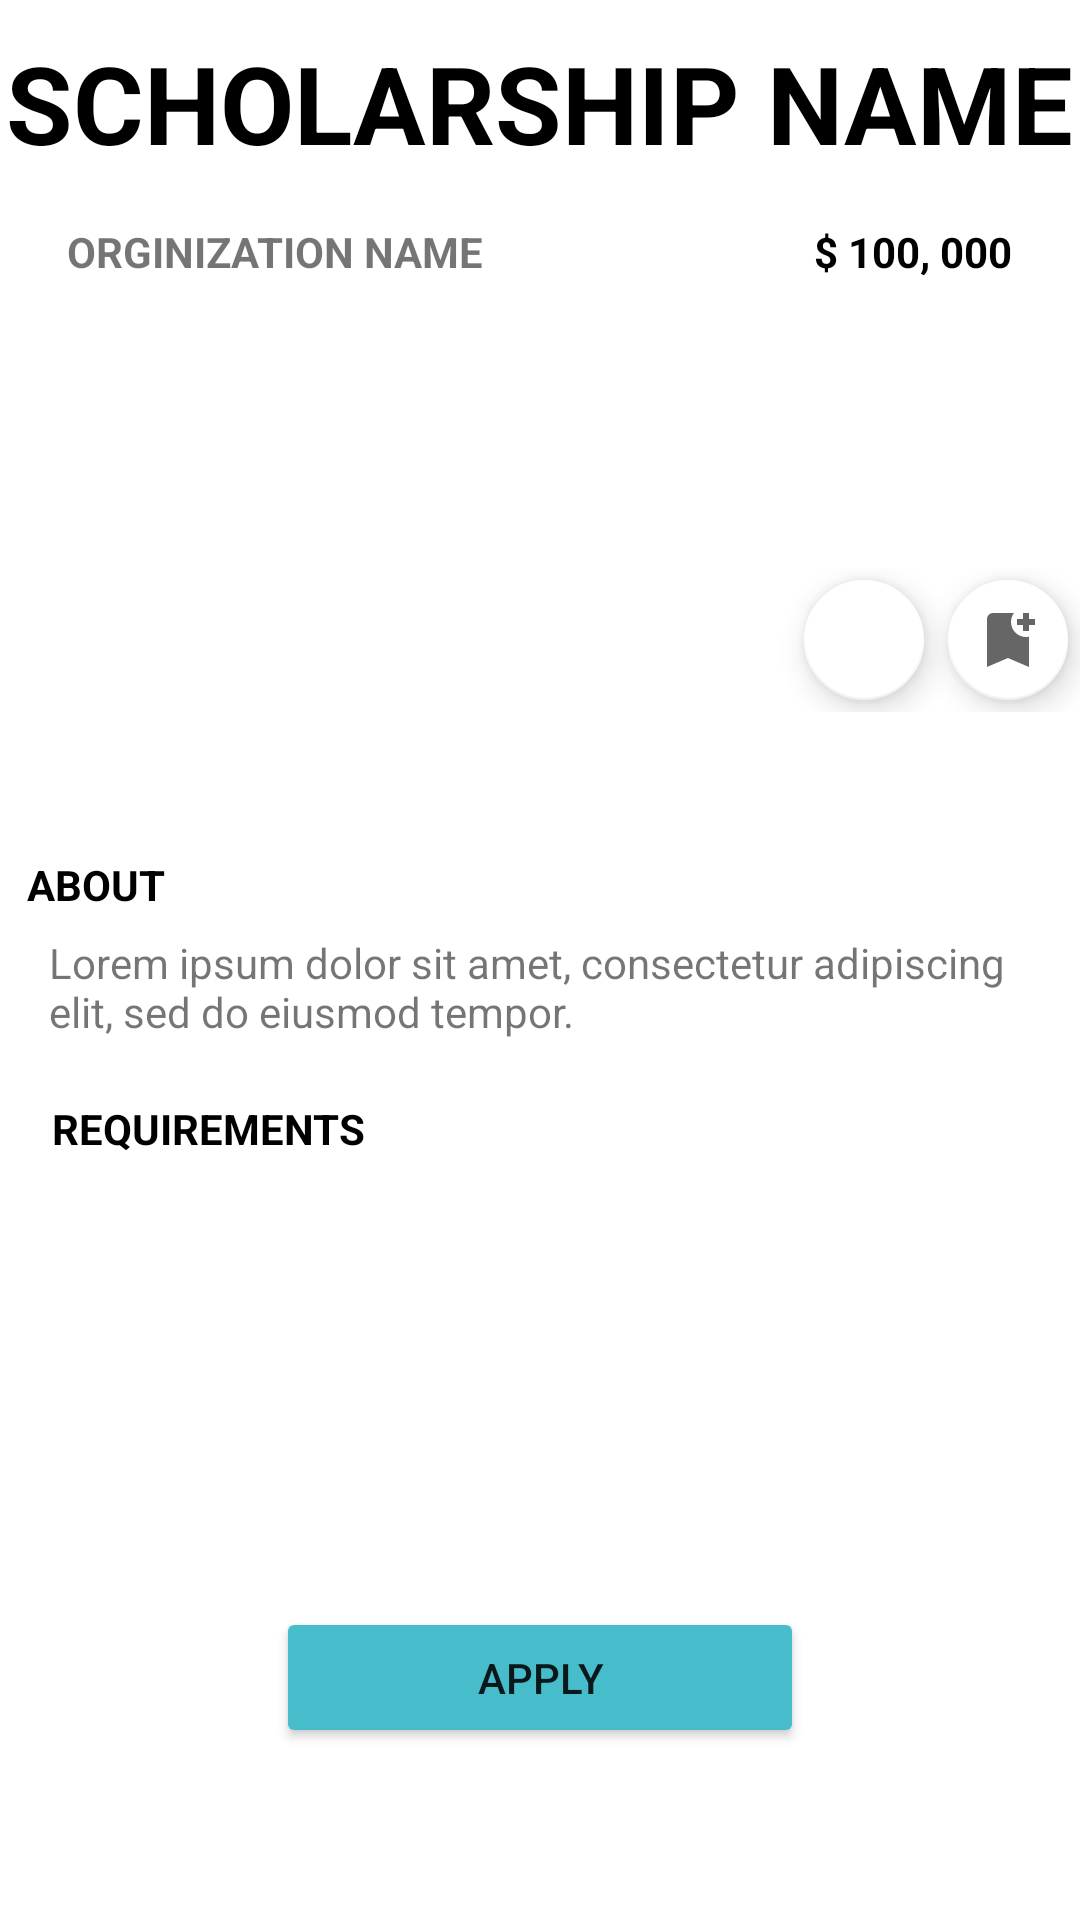

Where to tap for icons on this 1080×1920 app screen, as point (x, y):
bookmark add: point (1020, 658)
